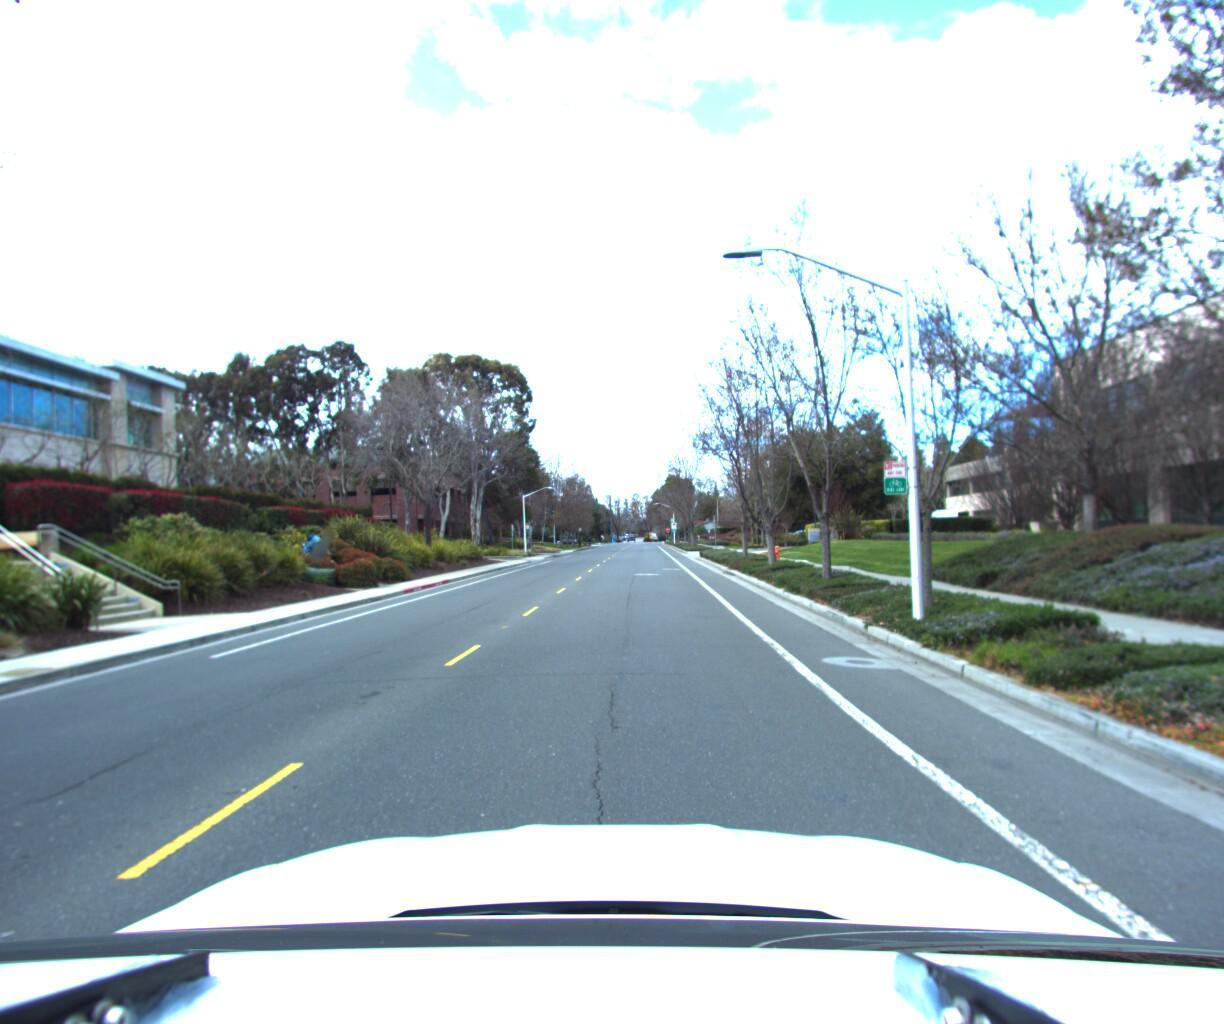car: (924, 504, 960, 539)
